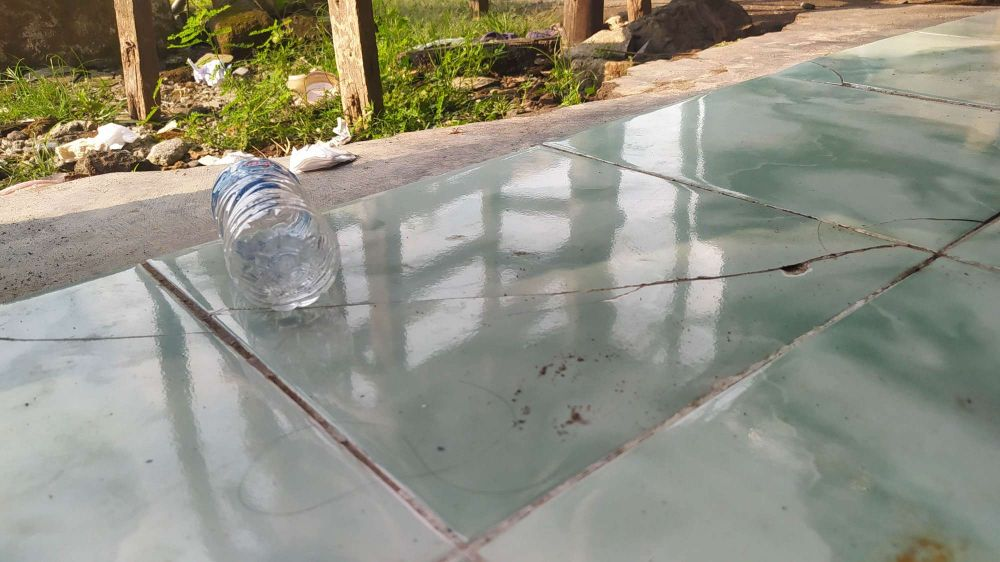botol: (191, 150, 371, 318)
